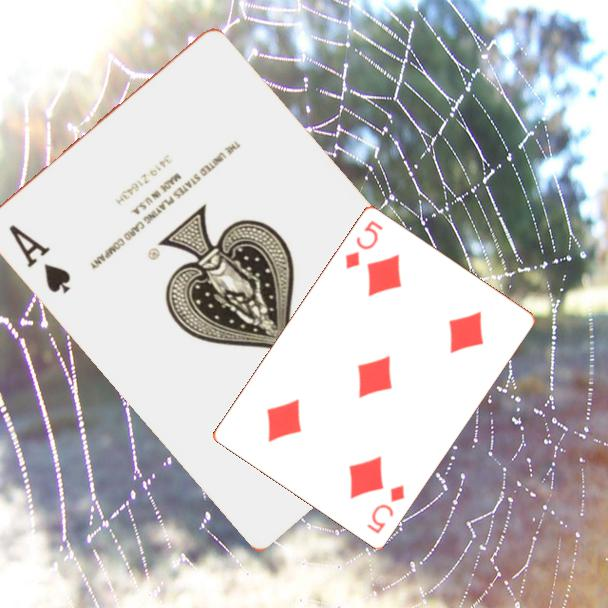d05: (341, 216, 386, 272), (363, 480, 407, 536)
s01: (6, 221, 75, 297)
